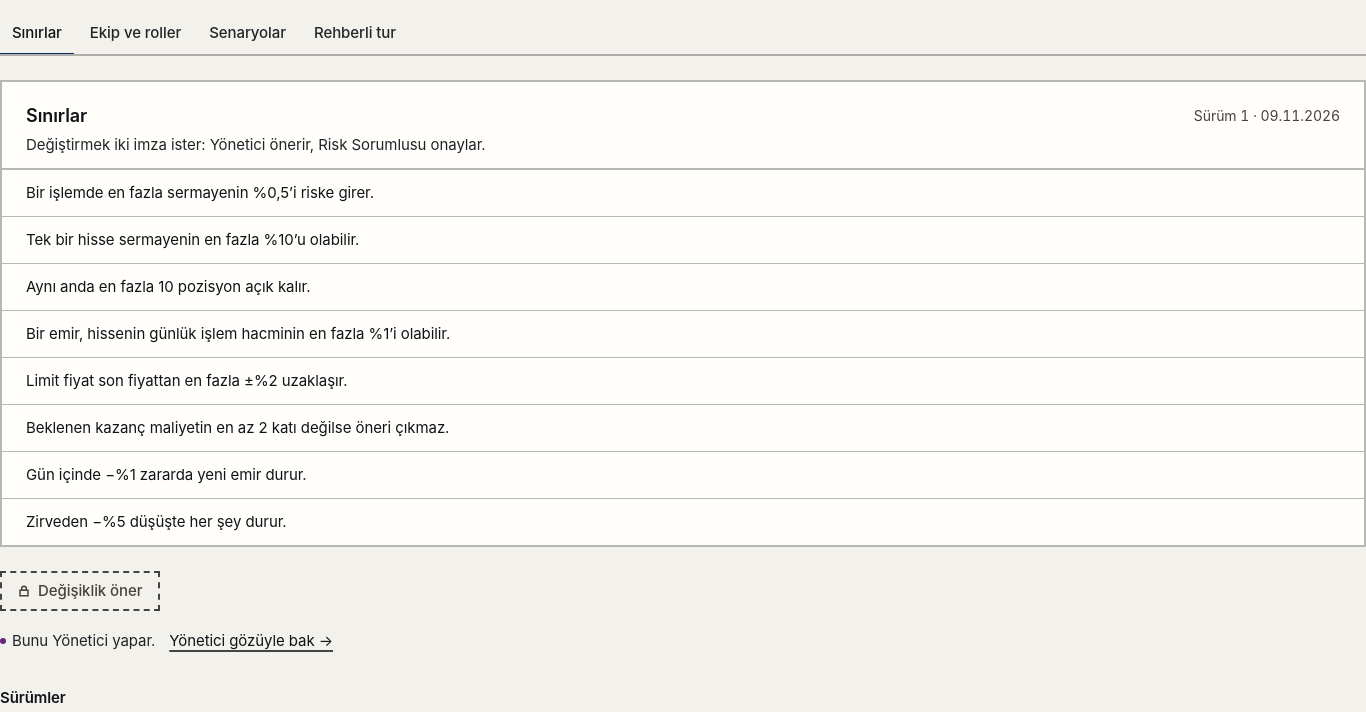
it: Ayarlar · ekip ve demo › closes the scenarios and the team list to the Analist, with reasons
Expected: the element with test id "denied-limits.propose" is shown, [0,619,335,663]
Expected: the button "Değişiklik öner" is disabled, [0,571,160,611]
Click the tab "Ekip ve roller" at coordinates (135, 34), box [78,12,193,56]
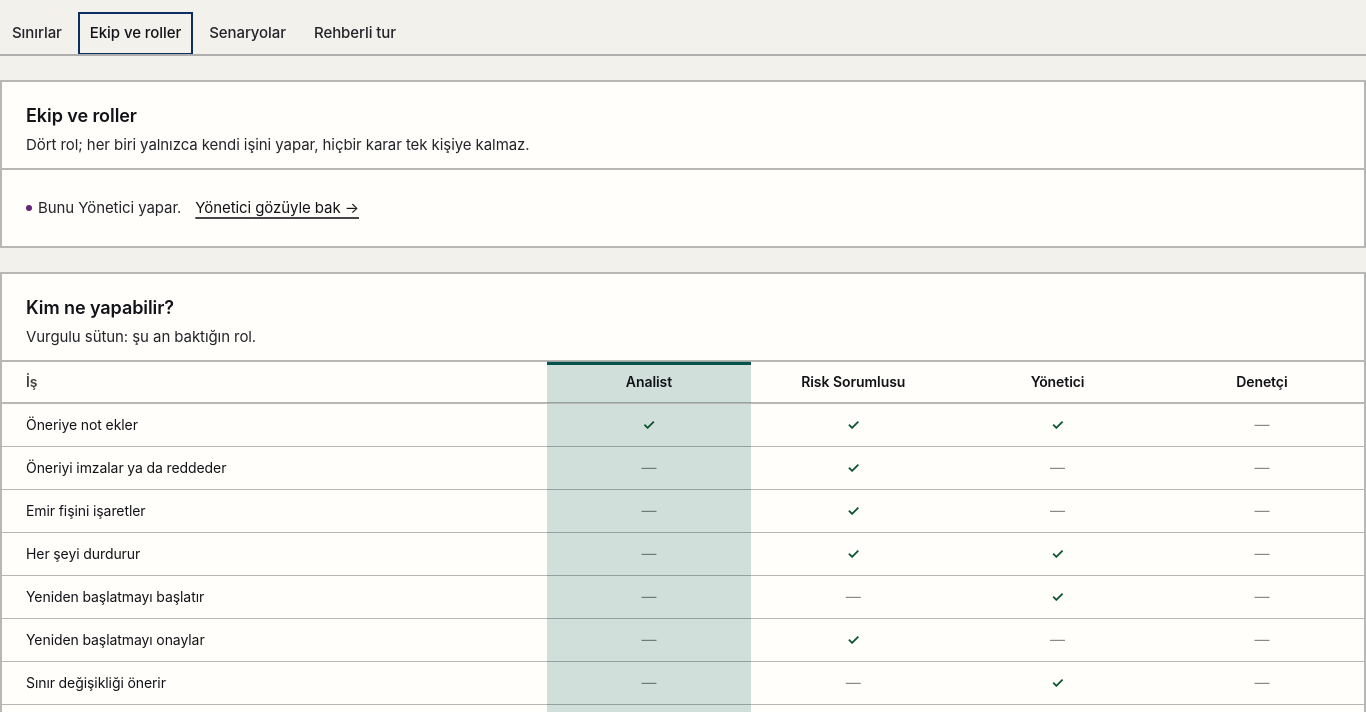
Expected: the element with test id "denied-users.view" shows "Bunu Yönetici yapar.", [38,198,181,217]
Note: The same controls, closed (never hidden), with the reason said once and a way to look as the Yönetici.
Click the tab "Senaryolar" at coordinates (248, 34), box [197,12,298,56]
(page scrolled)
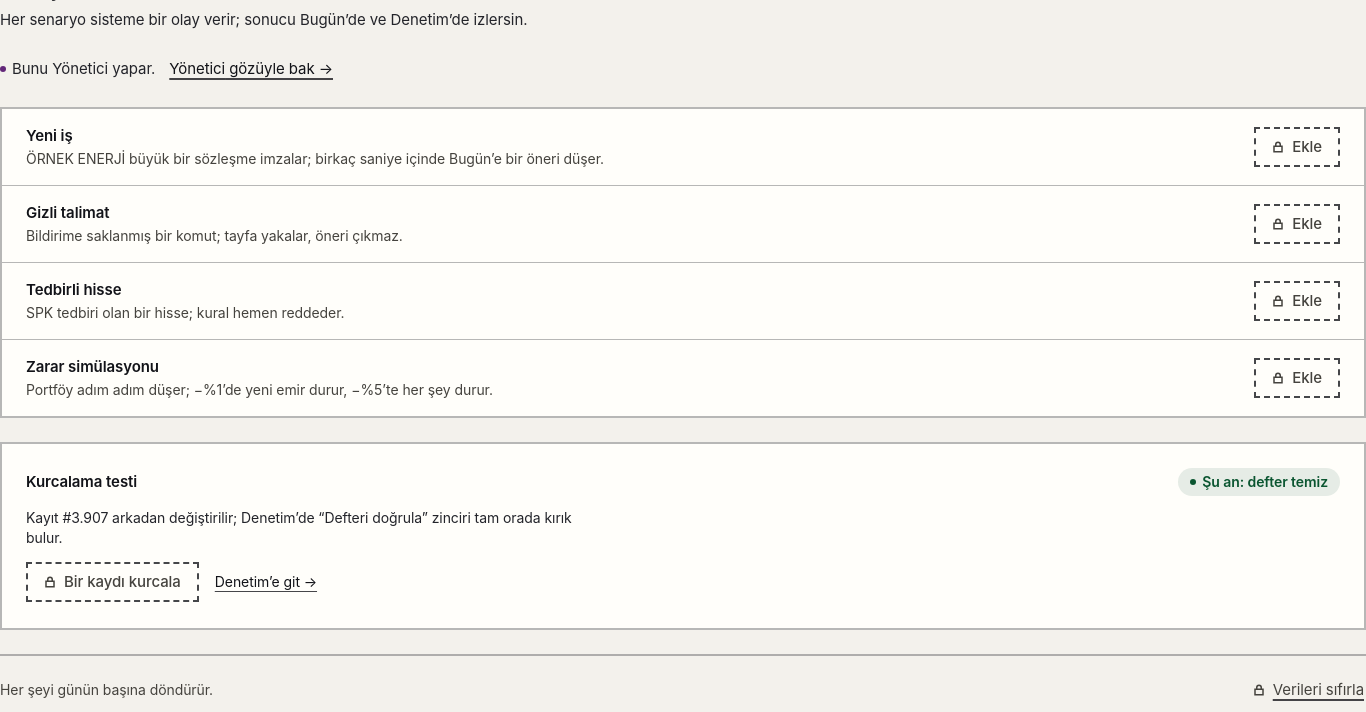
Expected: the element with test id "denied-demo.run" shows "Yönetici gözüyle bak →", [0,47,335,91]
Result: the button with aria-label "Senaryo ekle: Gizli talimat" is disabled at [1254,204,1340,244]
Result: the button "Verileri sıfırla" is disabled at [1251,668,1365,711]
